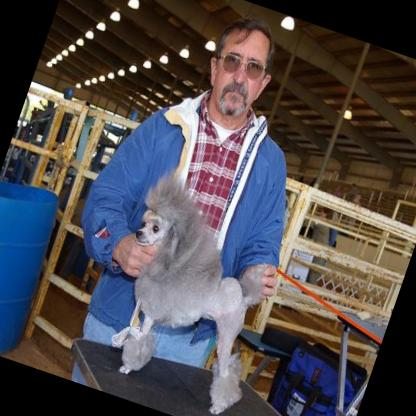toy_poodle: (83, 166, 303, 416)
